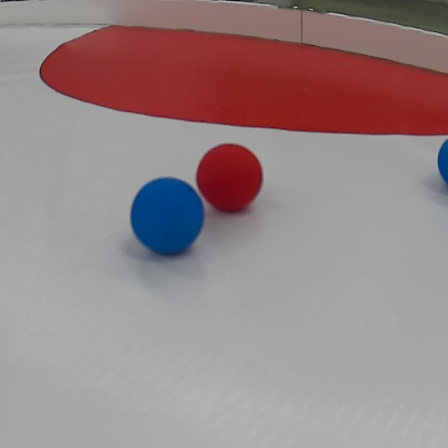blue: (128, 175, 205, 260)
red: (198, 144, 261, 214)
red_base: (40, 15, 448, 140)
